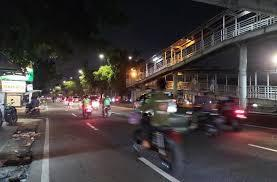Pothole: (11, 126, 49, 146)
